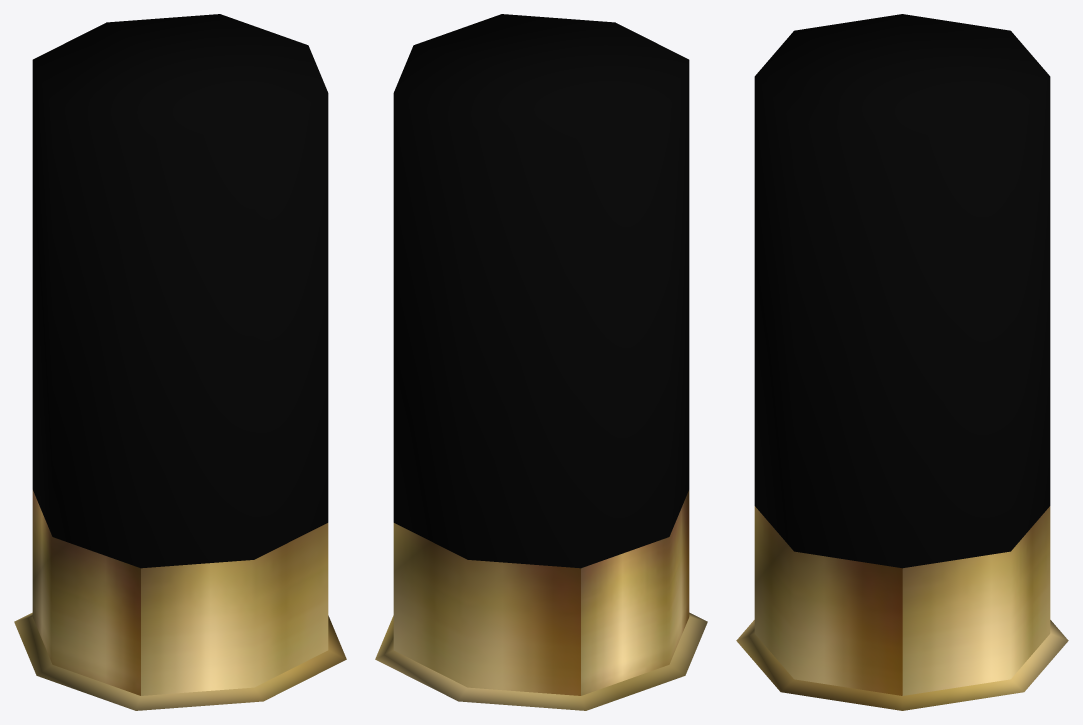
The model's file is shell.fbx.
3 views of the same model, side by side, from view 1: azimuth 30°, elevation 25°; view 2: azimuth 150°, elevation 25°; view 3: azimuth 270°, elevation 25° (orthographic).
Parts seen in each view (by area): view 1: Plane; view 2: Plane; view 3: Plane.
Part boxes in pixels (x1,y1,x2,y2): Plane: (14,14,346,710); Plane: (375,14,707,710); Plane: (736,14,1068,710).
Bounding box in the file's own units: 183 × 347 × 183.
Materials: 2 (1 with a texture image).
